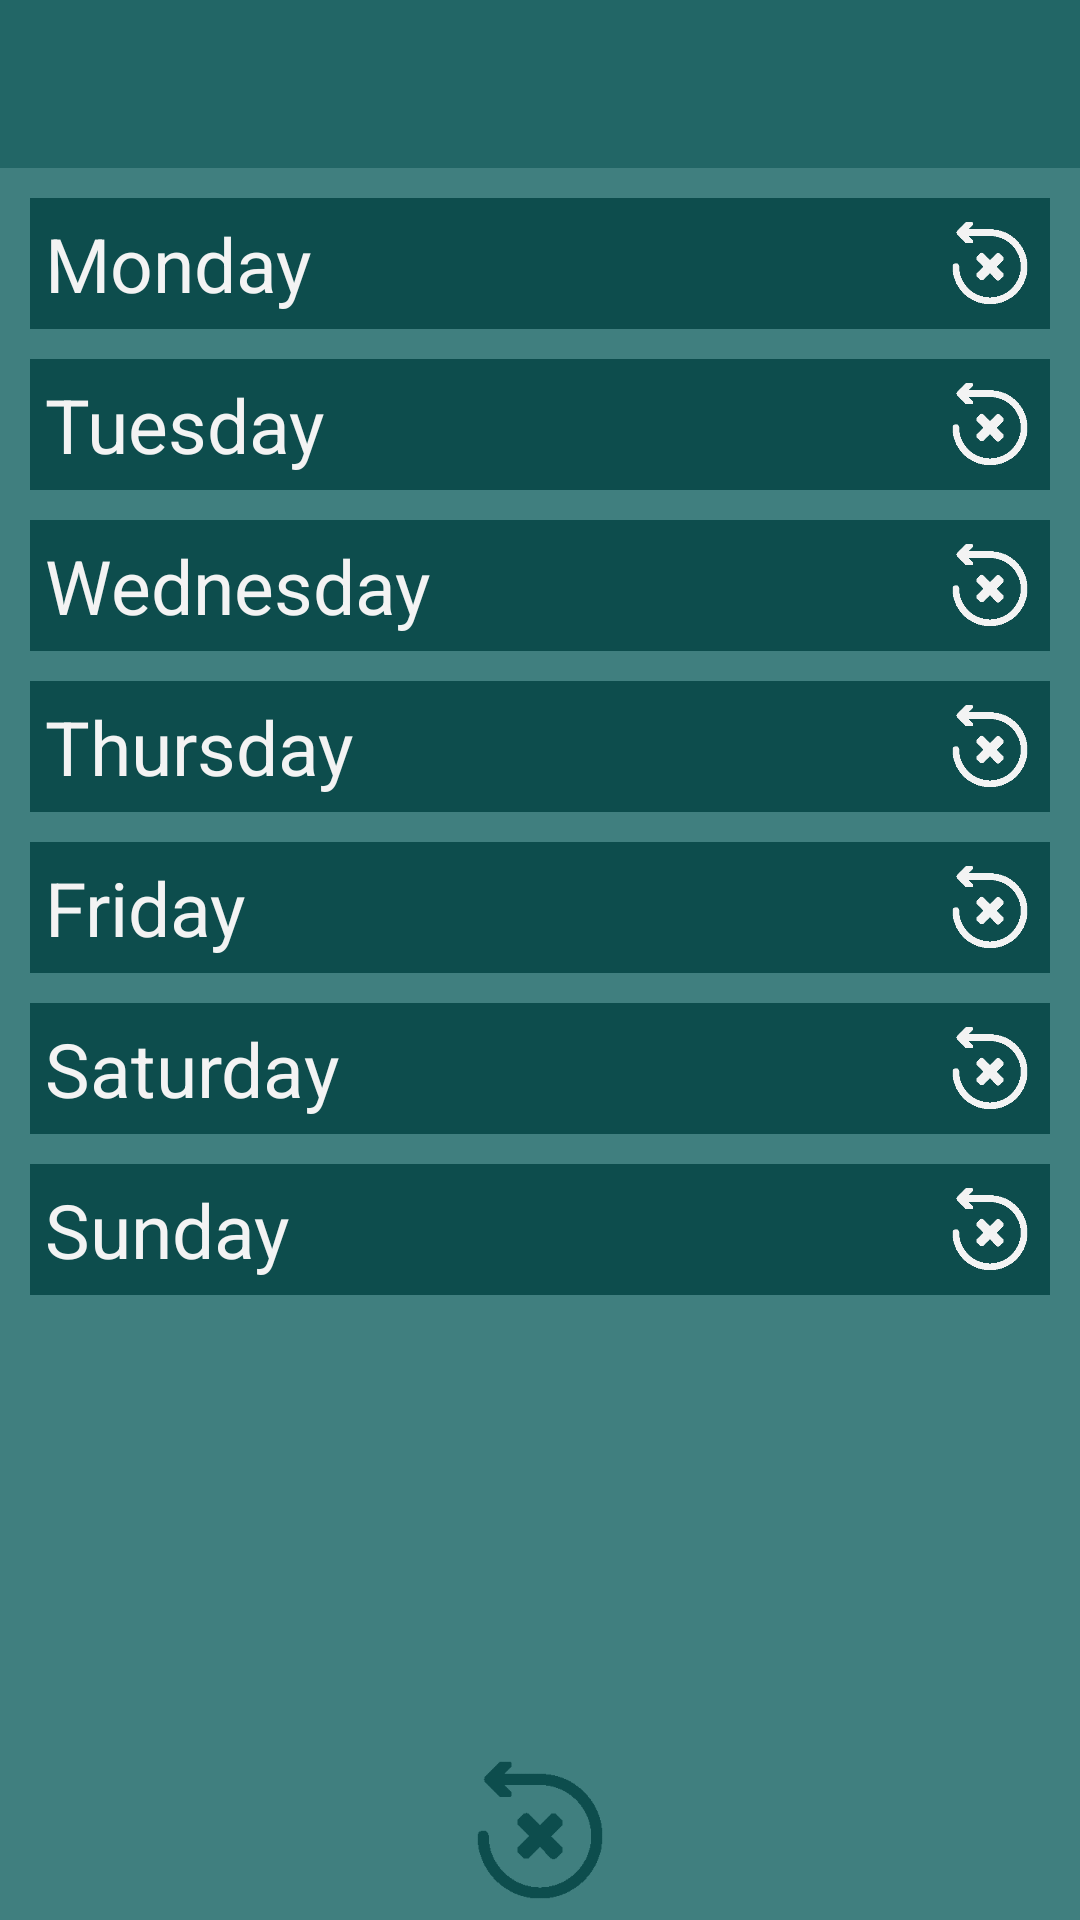

Named icons in this screenshot (1080 × 1920) and their centers, point (x, y):
reset week: point (540, 1830)
